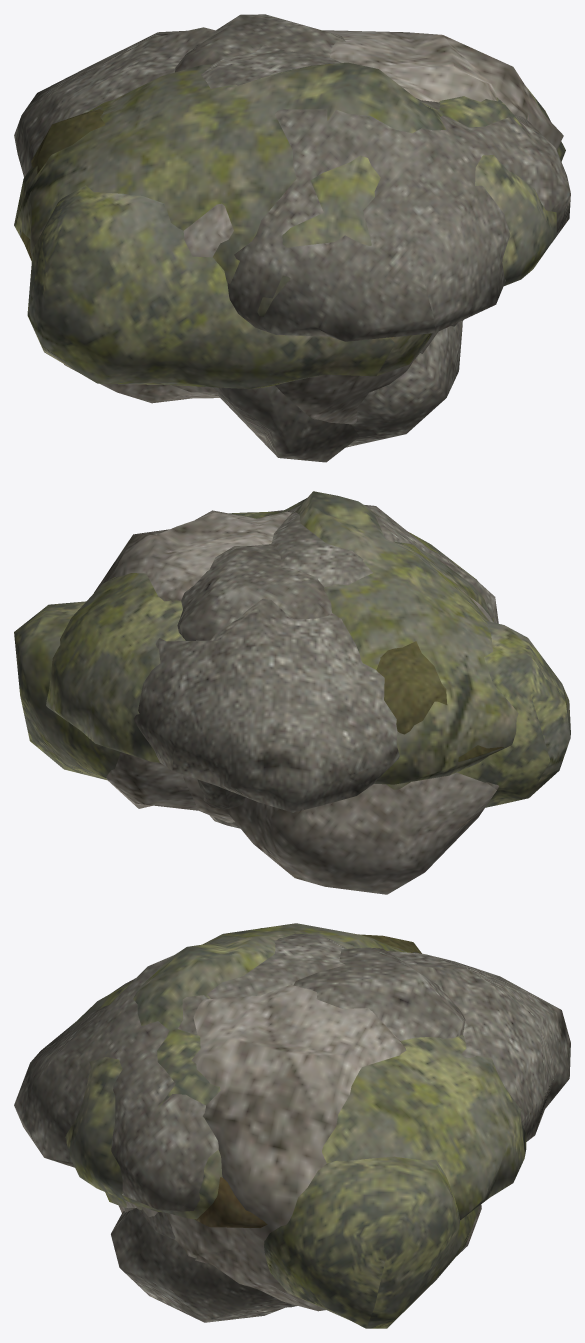
File: Rocks.fbx
3 views of the same model, one above another, from view 1: azimuth 30°, elevation 25°; view 2: azimuth 150°, elevation 25°; view 3: azimuth 270°, elevation 25° (orthographic). The views are drawn at different scales.
Visible parts, largest first — view 1: Rock07, Rock08, Rock03, Rock01, Rock12, Rock09; view 2: Rock07, Rock08, Rock01, Rock03, Rock12, Rock09; view 3: Rock07, Rock08, Rock01, Rock03, Rock12, Rock09, Rock02.
Part boxes in pixels (left/top/right/bottom): Rock07: left=14, top=27, right=570, bottom=341; Rock08: left=14, top=62, right=556, bottom=316; Rock03: left=27, top=87, right=565, bottom=388; Rock01: left=64, top=30, right=563, bottom=424; Rock12: left=175, top=14, right=462, bottom=462; Rock09: left=21, top=109, right=105, bottom=261; Rock07: left=134, top=505, right=498, bottom=812; Rock08: left=46, top=491, right=518, bottom=784; Rock01: left=94, top=510, right=498, bottom=894; Rock03: left=14, top=601, right=570, bottom=807; Rock12: left=177, top=544, right=331, bottom=809; Rock09: left=376, top=641, right=503, bottom=761; Rock07: left=14, top=933, right=570, bottom=1211; Rock08: left=65, top=923, right=526, bottom=1219; Rock01: left=119, top=985, right=481, bottom=1311; Rock03: left=105, top=928, right=479, bottom=1328; Rock12: left=111, top=947, right=465, bottom=1322; Rock09: left=194, top=934, right=421, bottom=1227; Rock02: left=124, top=1207, right=175, bottom=1239.
Bounding box in the file's own units: 255 × 160 × 227.
